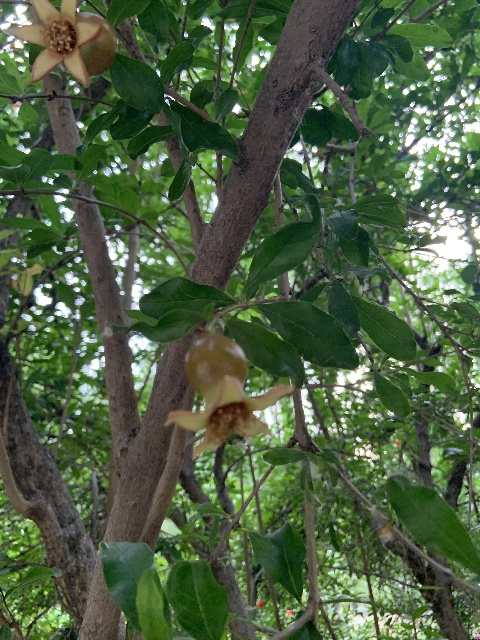early-fruit: (163, 333, 294, 457), (5, 0, 118, 87)
